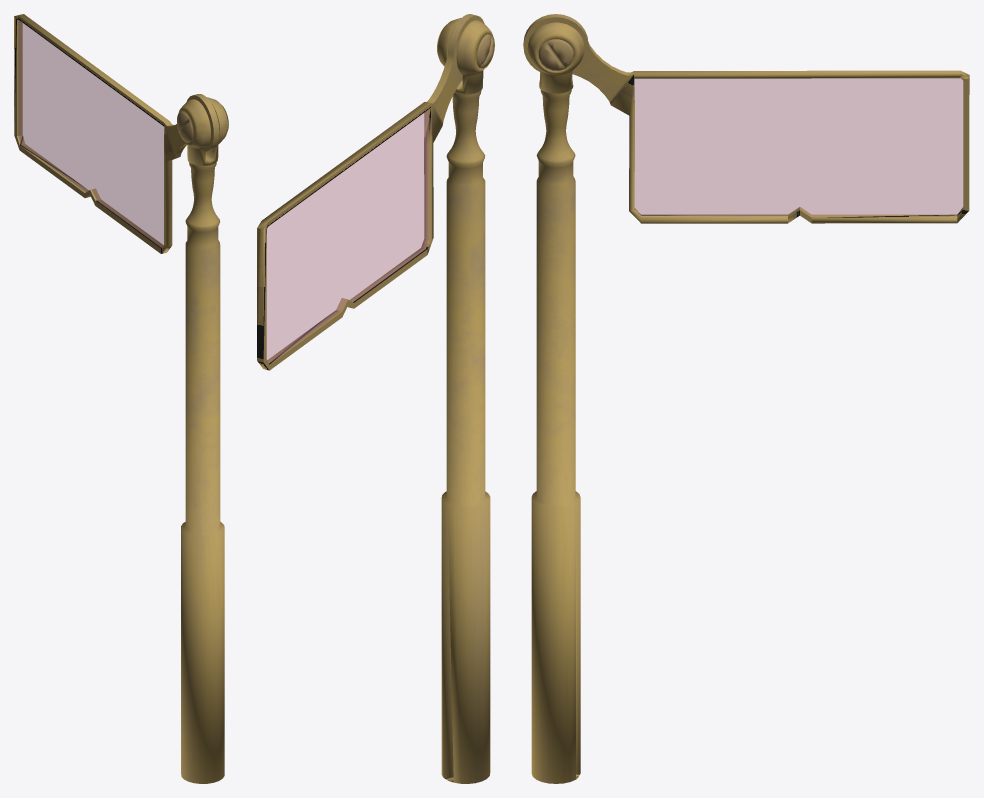
The model's file is WithHandle.fbx.
3 views of the same model, side by side, from view 1: azimuth 30°, elevation 25°; view 2: azimuth 150°, elevation 25°; view 3: azimuth 270°, elevation 25° (orthographic). The views are drawn at different scales.
Visible parts, largest first — view 1: Cylinder.025, Lens_Pink_Shield; view 2: Cylinder.025, Lens_Pink_Shield; view 3: Lens_Pink_Shield, Cylinder.025.
Boxes of the visible parts, bbox=[...] form: Cylinder.025: bbox=[14, 14, 228, 783]; Lens_Pink_Shield: bbox=[18, 20, 164, 247]; Cylinder.025: bbox=[257, 14, 494, 783]; Lens_Pink_Shield: bbox=[266, 109, 429, 363]; Lens_Pink_Shield: bbox=[634, 78, 963, 215]; Cylinder.025: bbox=[523, 14, 969, 783].
Size of the model in its own units: 1.67 by 25.28 by 13.48.
